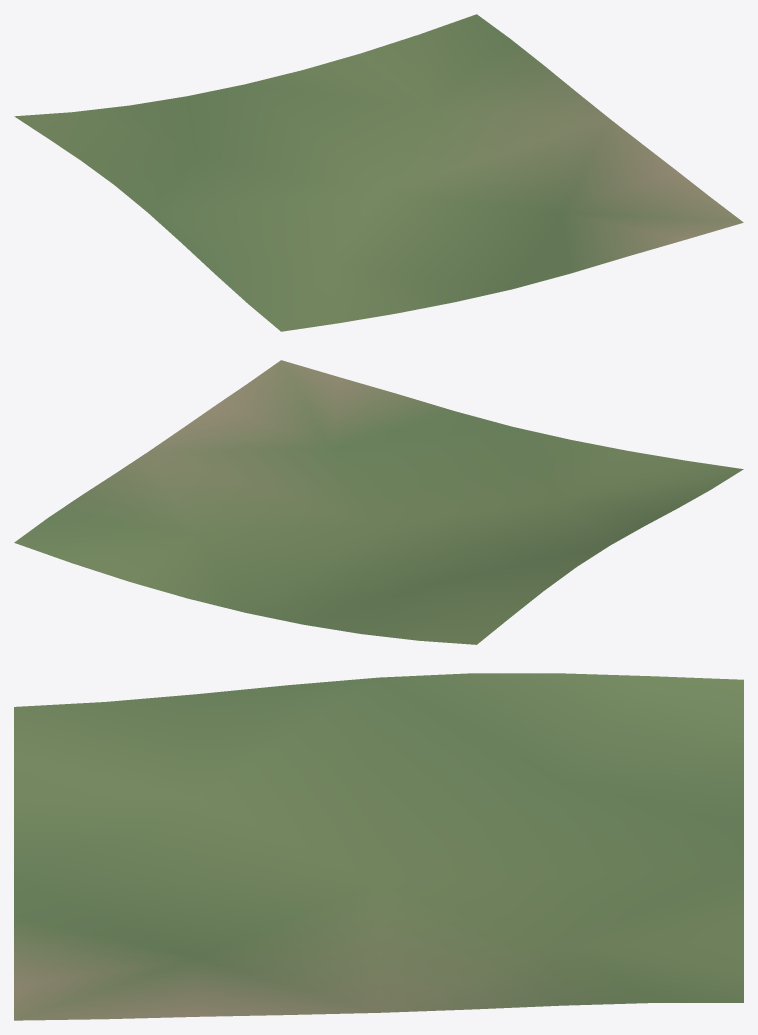
Rendered from Terrain-3-6-4.glb.
3 views of the same model, one above another, from view 1: azimuth 30°, elevation 25°; view 2: azimuth 150°, elevation 25°; view 3: azimuth 270°, elevation 25° (orthographic). The views are drawn at different scales.
Visible parts, largest first — view 1: Terrain-3-6-4; view 2: Terrain-3-6-4; view 3: Terrain-3-6-4.
Part boxes in pixels (<box>): Terrain-3-6-4: <box>14,14,743,331</box>; Terrain-3-6-4: <box>14,360,743,644</box>; Terrain-3-6-4: <box>14,673,743,1020</box>.
Size of the model in its own units: 6 by 0.5026 by 6.
